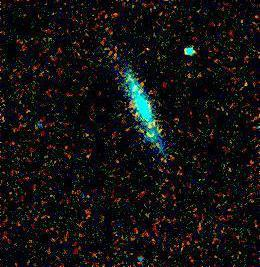star: (135, 122, 165, 152)
